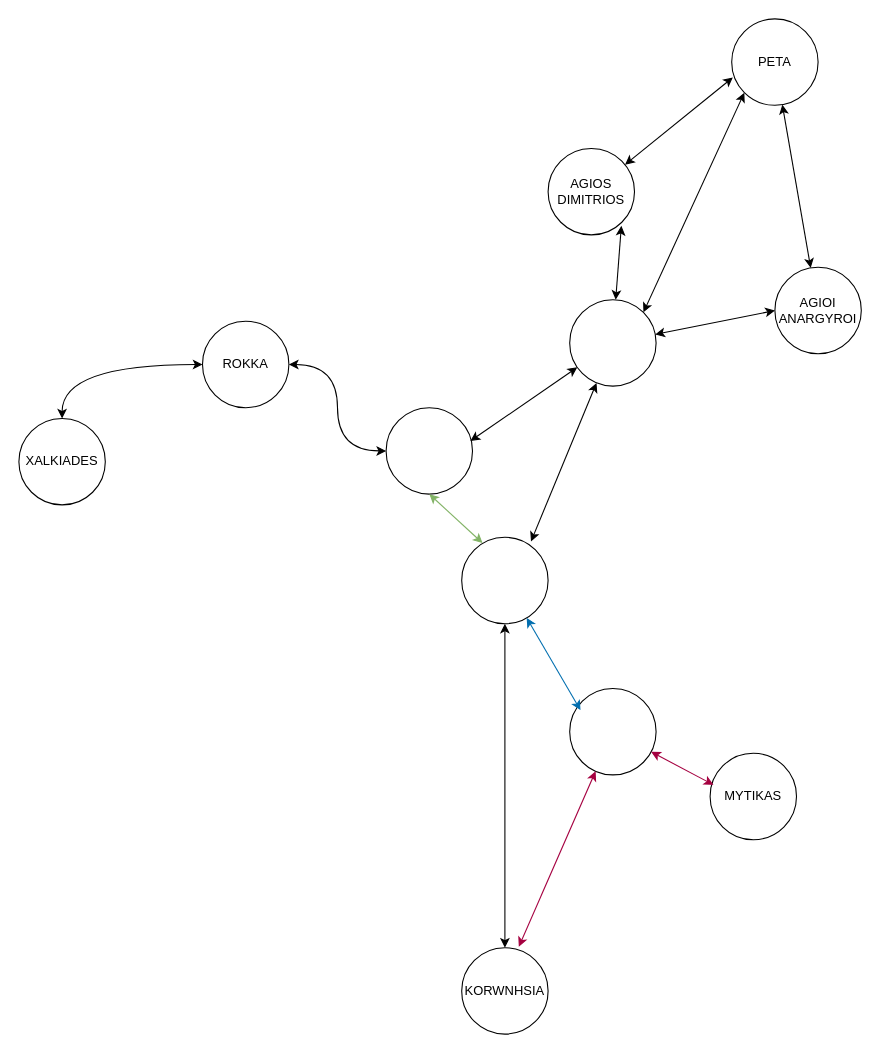
This 880x1053 diagram has some shape labels left out. Here are the shapes that lost their labels. From the top down, the centre of each, then its label:
At (612,342): "AFETHRIA".
At (429,450): "ELEOUSA".
At (504,580): "KWSTAKIOI".
At (612,731): "ANEZA".
